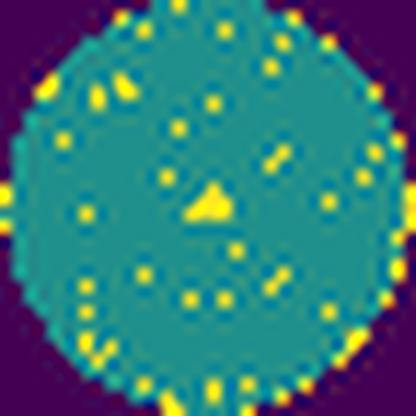Center: (189, 180, 235, 224)
